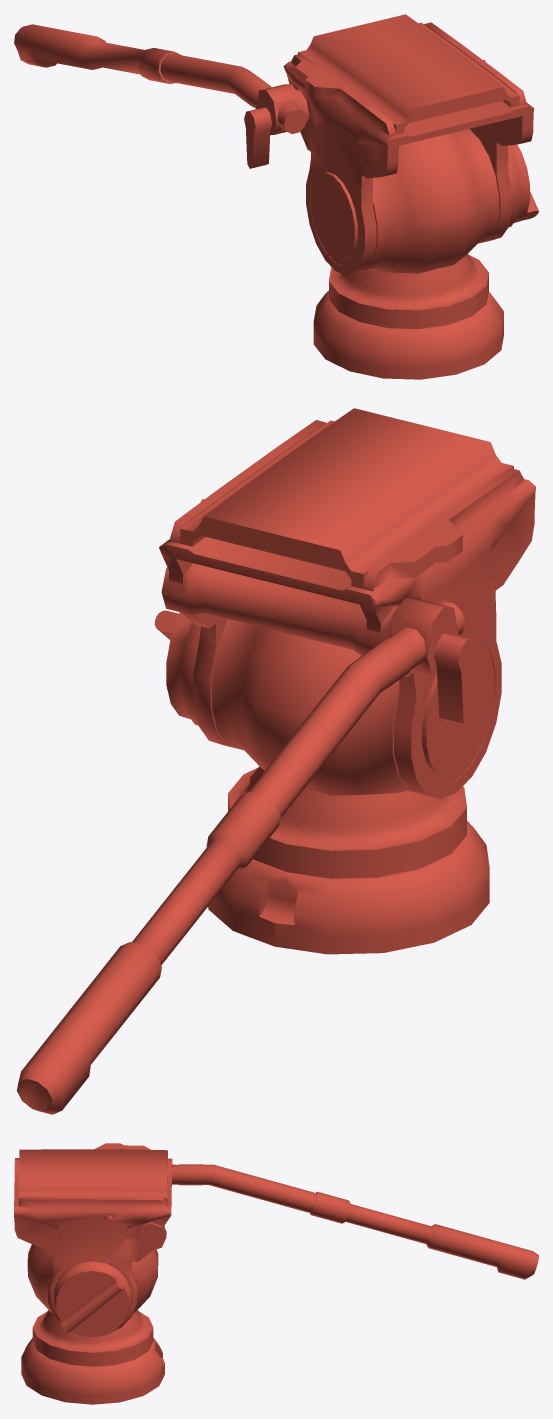
Rendered from Modern High End Tripod Head 02.fbx.
3 renders of one model, top to bottom at view 1: azimuth 30°, elevation 25°; view 2: azimuth 150°, elevation 25°; view 3: azimuth 270°, elevation 25°, orthographic. The views are drawn at different scales.
Visible parts, largest first — view 1: Cylinder.002; view 2: Cylinder.002; view 3: Cylinder.002.
Part boxes in pixels (x1,y1,x2,y2): Cylinder.002: [14, 14, 538, 379]; Cylinder.002: [17, 408, 535, 1114]; Cylinder.002: [14, 1143, 538, 1404].
Size of the model in its own units: 28.5 by 32.91 by 75.19.
